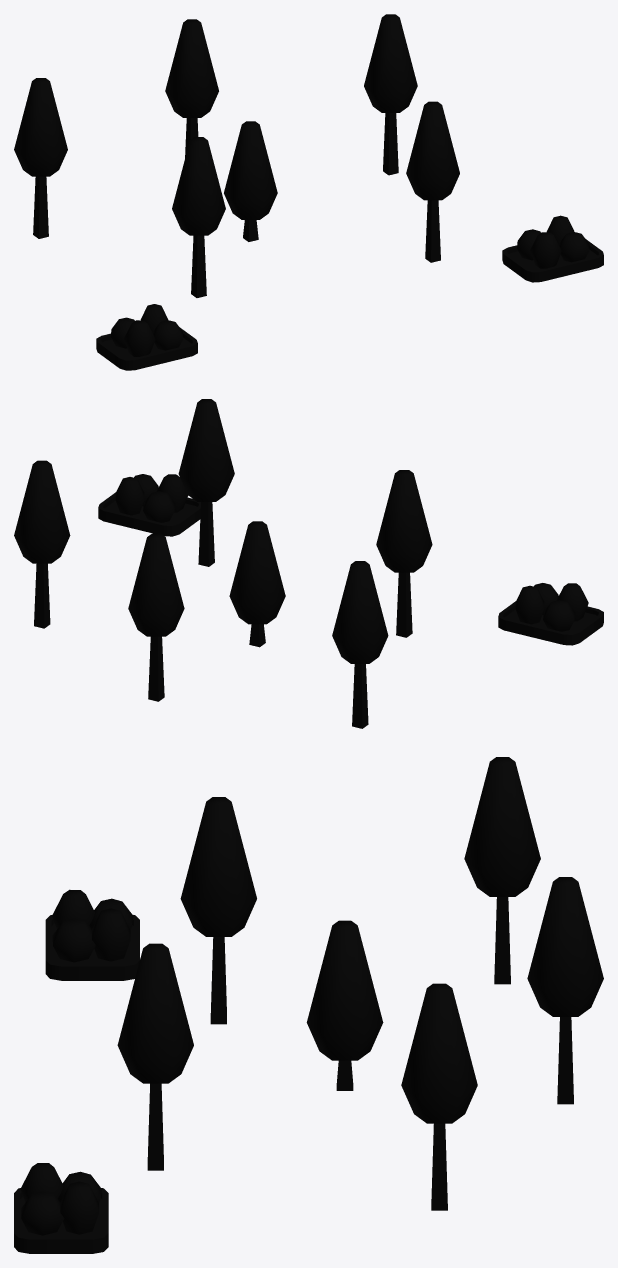
File: park.glb
The picture shows the model from 3 angles, top to bottom: view 1: azimuth 30°, elevation 25°; view 2: azimuth 150°, elevation 25°; view 3: azimuth 270°, elevation 25°; orthographic projection. The views are drawn at different scales.
Parts seen in each view (by area): view 1: tree-large; view 2: tree-large; view 3: tree-large.
Part boxes in pixels (left/top/right/bottom): tree-large: left=14, top=14, right=603, bottom=370; tree-large: left=14, top=399, right=603, bottom=728; tree-large: left=14, top=757, right=603, bottom=1253.
Size of the model in its own units: 2.45 by 0.7669 by 1.87.
Materials: 1 (1 with a texture image).
